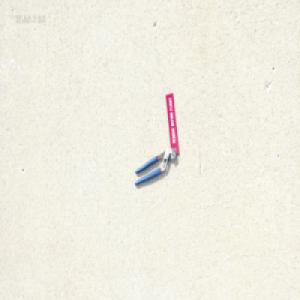Label: (165, 91, 179, 154)
Pliers: (134, 148, 176, 186)
